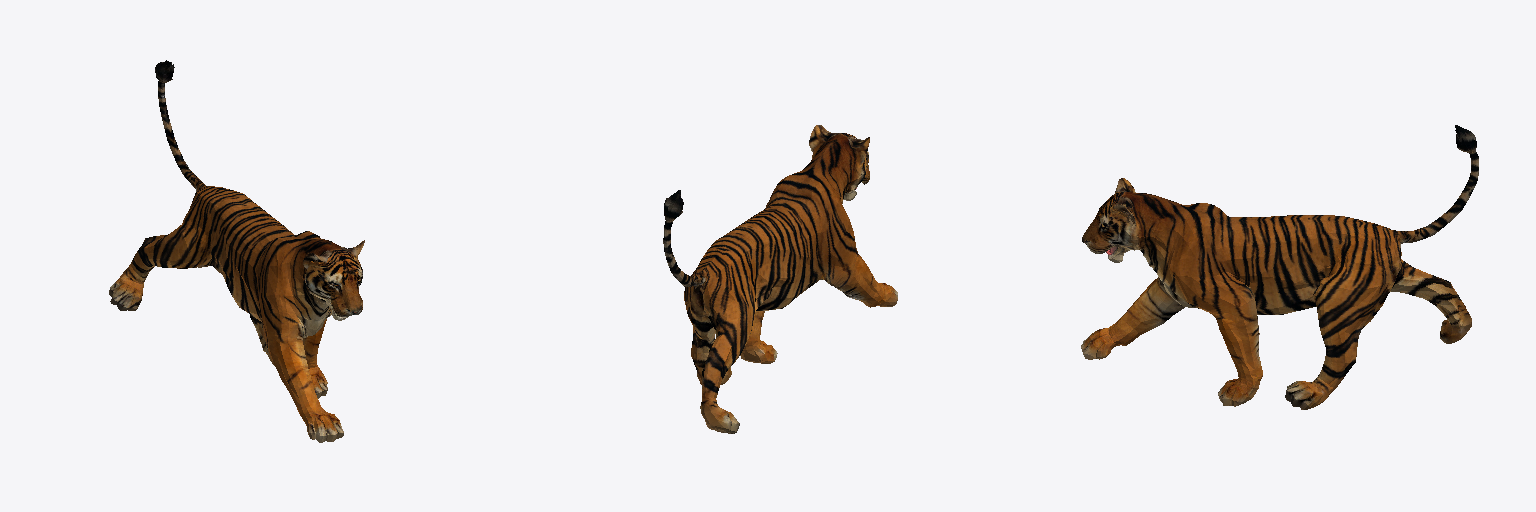
The picture shows the model from 3 angles: view 1: azimuth 30°, elevation 25°; view 2: azimuth 150°, elevation 25°; view 3: azimuth 270°, elevation 25°; orthographic projection.
Bounding box in the file's own units: 166 × 362 × 500.
Materials: 1 (1 with a texture image).